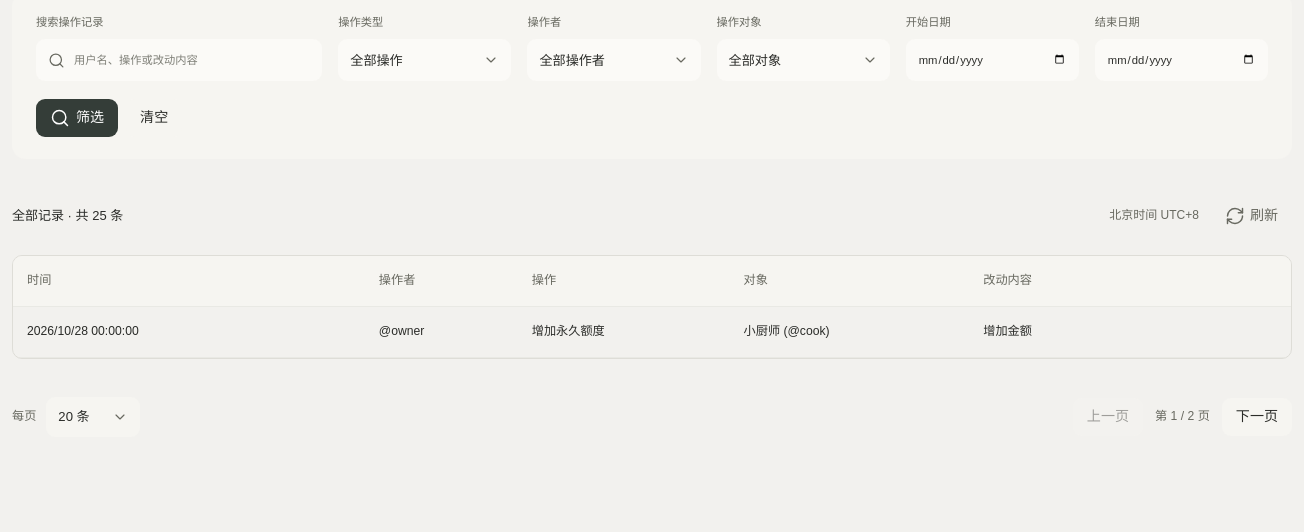
it: Audit history › shows errors and retries while preserving the last successful report
Expected: the text "增加永久额度" is shown, [519,306,731,357]
Click the button with aria-label "刷新操作记录".
click(1251, 216)  # box [1211,197,1292,235]
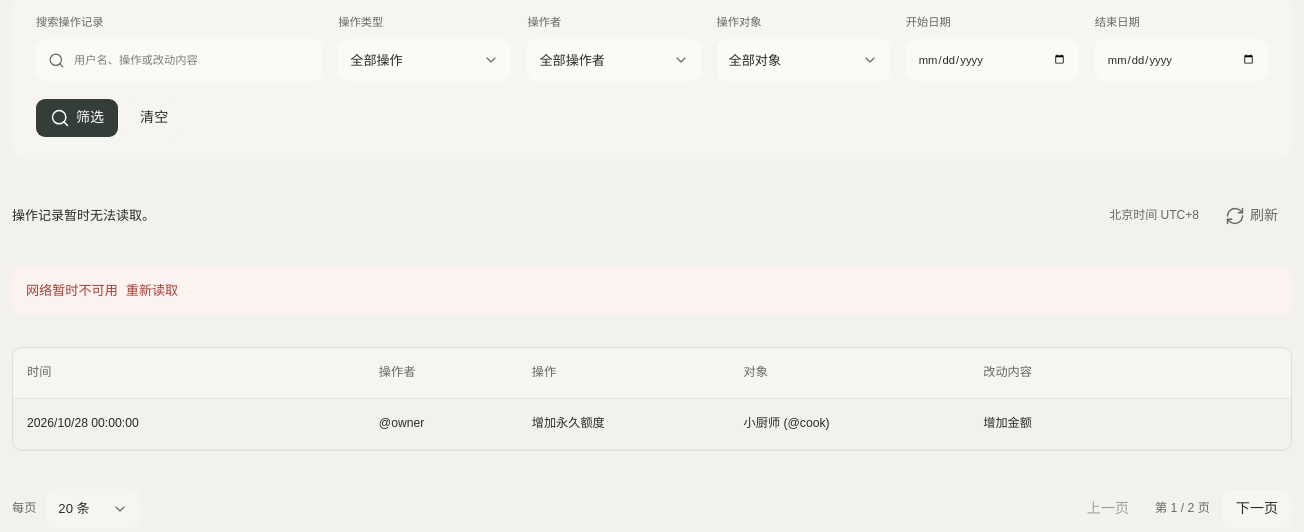
Expected: the text "增加永久额度" is shown, [519,398,731,449]
Result: the message "网络暂时不可用 重新读取" is shown at [12,267,1292,315]
Click the button "重新读取".
click(152, 291)  # box [126,281,178,301]
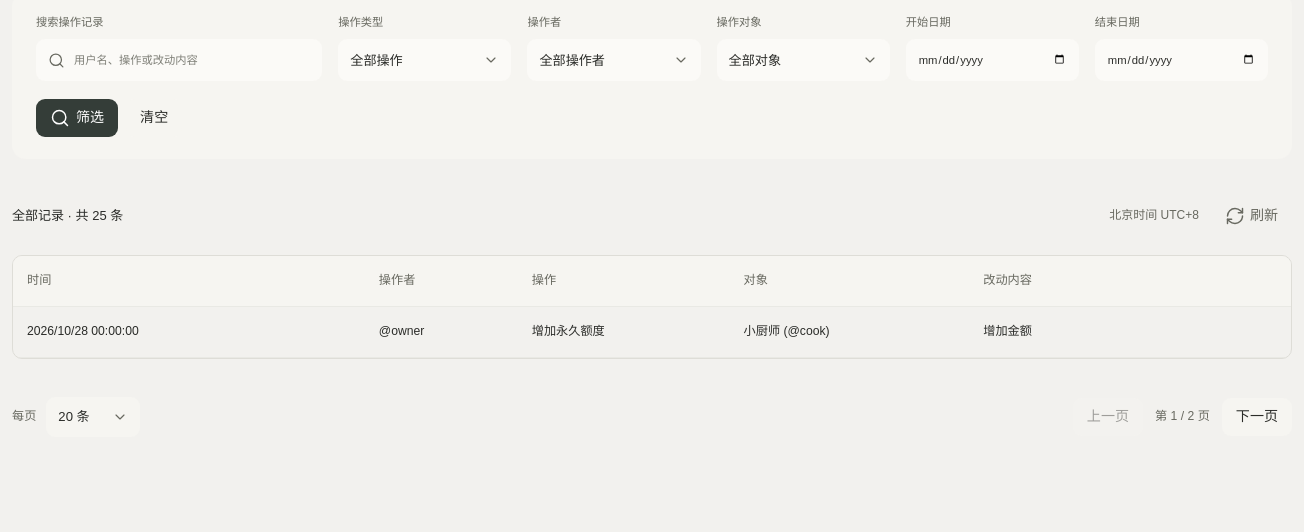
Result: the message "网络暂时不可用 重新读取" is gone
Result: the message shows "共 25 条" at [12,208,123,223]
